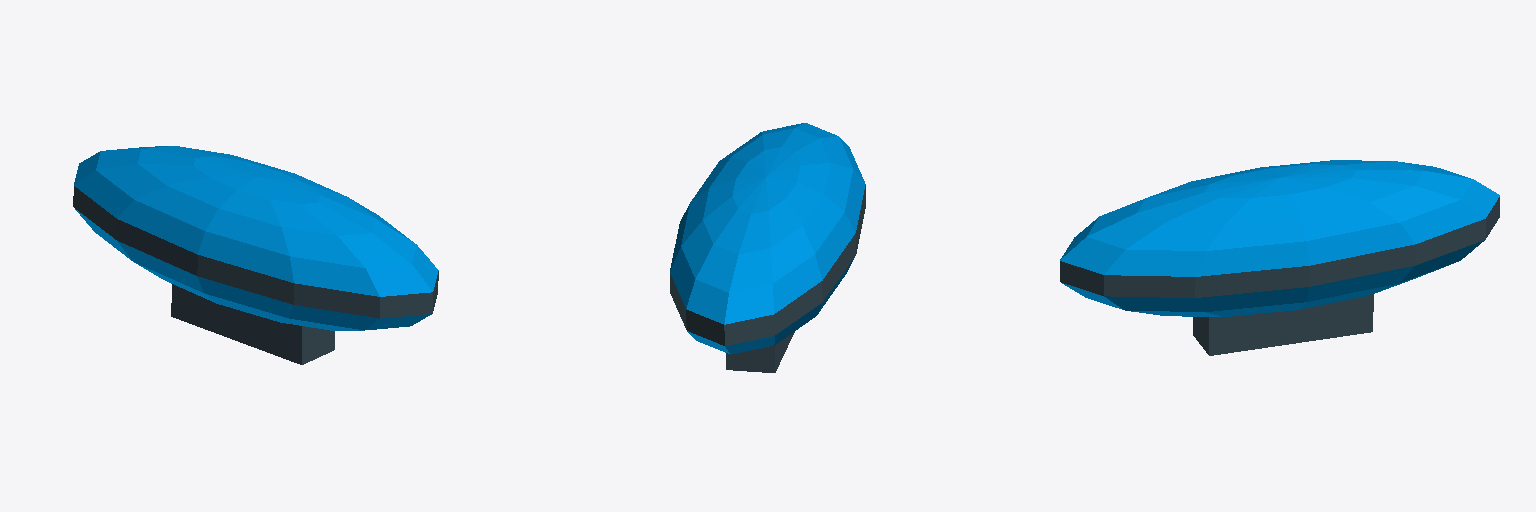
3 views of the same model, side by side, from view 1: azimuth 30°, elevation 25°; view 2: azimuth 150°, elevation 25°; view 3: azimuth 270°, elevation 25° (orthographic).
Parts seen in each view (by area): view 1: group[number redacted], group[number redacted]; view 2: group[number redacted], group[number redacted]; view 3: group[number redacted], group[number redacted].
Boxes of the visible parts, x1=… form: group[number redacted]: x1=73, y1=146, x2=438, y2=330; group[number redacted]: x1=171, y1=284, x2=334, y2=364; group[number redacted]: x1=670, y1=123, x2=865, y2=354; group[number redacted]: x1=726, y1=332, x2=794, y2=372; group[number redacted]: x1=1060, y1=160, x2=1499, y2=316; group[number redacted]: x1=1193, y1=294, x2=1373, y2=355.
Bounding box in the file's own units: 0.3597 × 0.2798 × 0.7075.